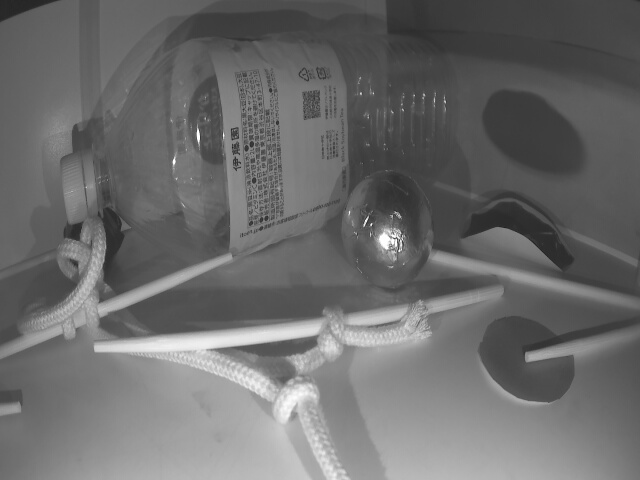Live: (344, 169, 431, 290)
